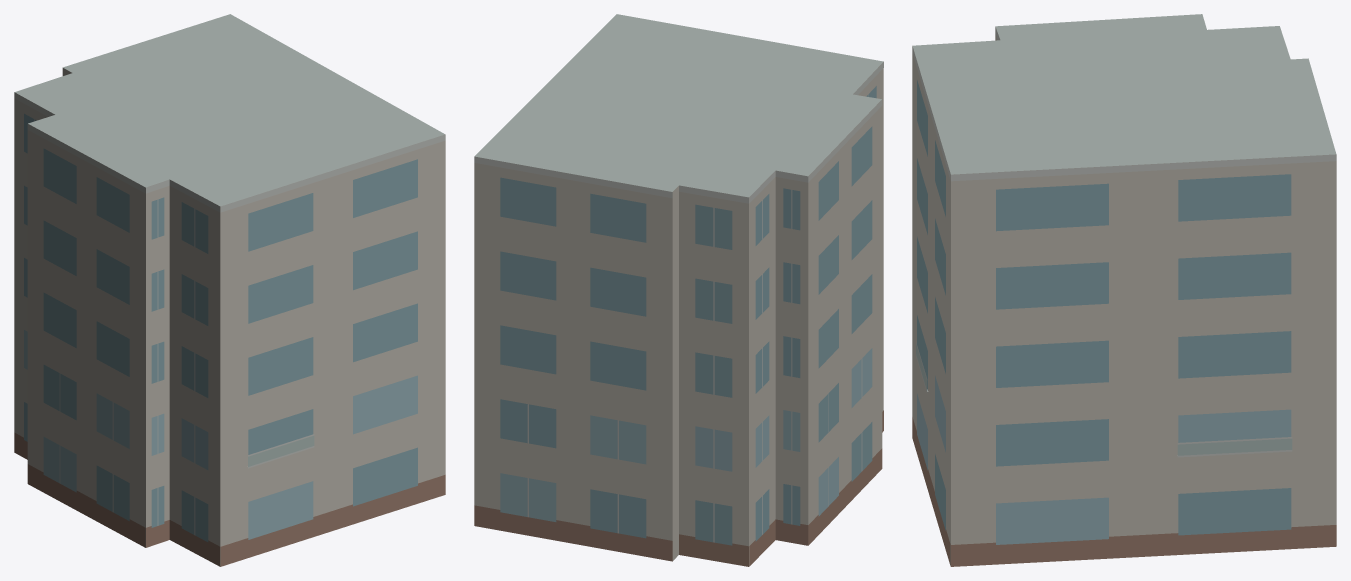
File: survey-upis-32719544.glb
The picture shows the model from 3 angles, left to right: view 1: azimuth 30°, elevation 25°; view 2: azimuth 150°, elevation 25°; view 3: azimuth 270°, elevation 25°; orthographic projection. The views are drawn at different scales.
Visible parts, largest first — view 1: survey-upis-32719544.tmp; view 2: survey-upis-32719544.tmp; view 3: survey-upis-32719544.tmp.
Boxes of the visible parts, left/top/right/bottom form: survey-upis-32719544.tmp: left=14, top=14, right=445, bottom=566; survey-upis-32719544.tmp: left=474, top=14, right=883, bottom=566; survey-upis-32719544.tmp: left=912, top=14, right=1336, bottom=566.
Bounding box in the file's own units: 12.56 × 14.3 × 14.02.
